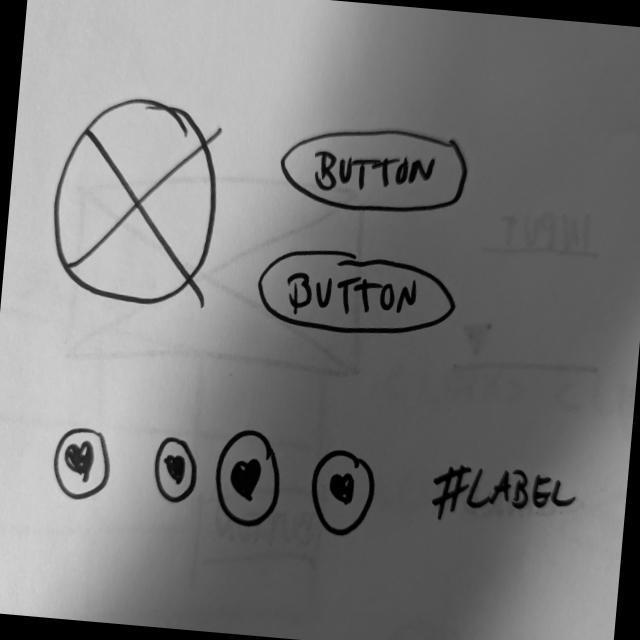button: (274, 118, 474, 226), (253, 243, 464, 345)
icon-button: (210, 424, 290, 535), (304, 444, 380, 543), (50, 423, 117, 508), (152, 431, 203, 508)
image: (42, 90, 228, 313)
label: (428, 457, 586, 538)
